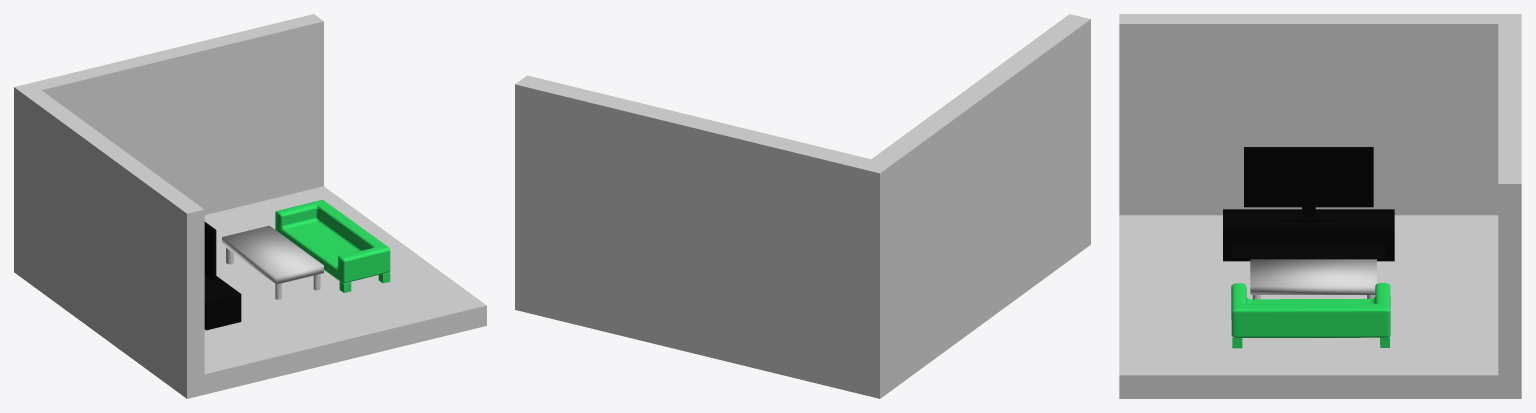
File: Mukhome.fbx
3 views of the same model, side by side, from view 1: azimuth 30°, elevation 25°; view 2: azimuth 150°, elevation 25°; view 3: azimuth 270°, elevation 25° (orthographic). The views are drawn at different scales.
Visible parts, largest first — view 1: Комната, Диван, Стол, Plane.001; view 2: Комната; view 3: Комната, Plane.001, Диван, Стол.
Boxes of the visible parts, x1,y1,x2,y2 form: Комната: [14, 14, 486, 398]; Диван: [275, 200, 390, 292]; Стол: [222, 225, 323, 299]; Plane.001: [204, 222, 241, 330]; Комната: [515, 14, 1090, 398]; Комната: [1119, 14, 1521, 398]; Plane.001: [1223, 147, 1394, 261]; Диван: [1231, 283, 1390, 348]; Стол: [1250, 259, 1376, 299].
Bounding box in the file's own units: 1263 × 745 × 1263.
